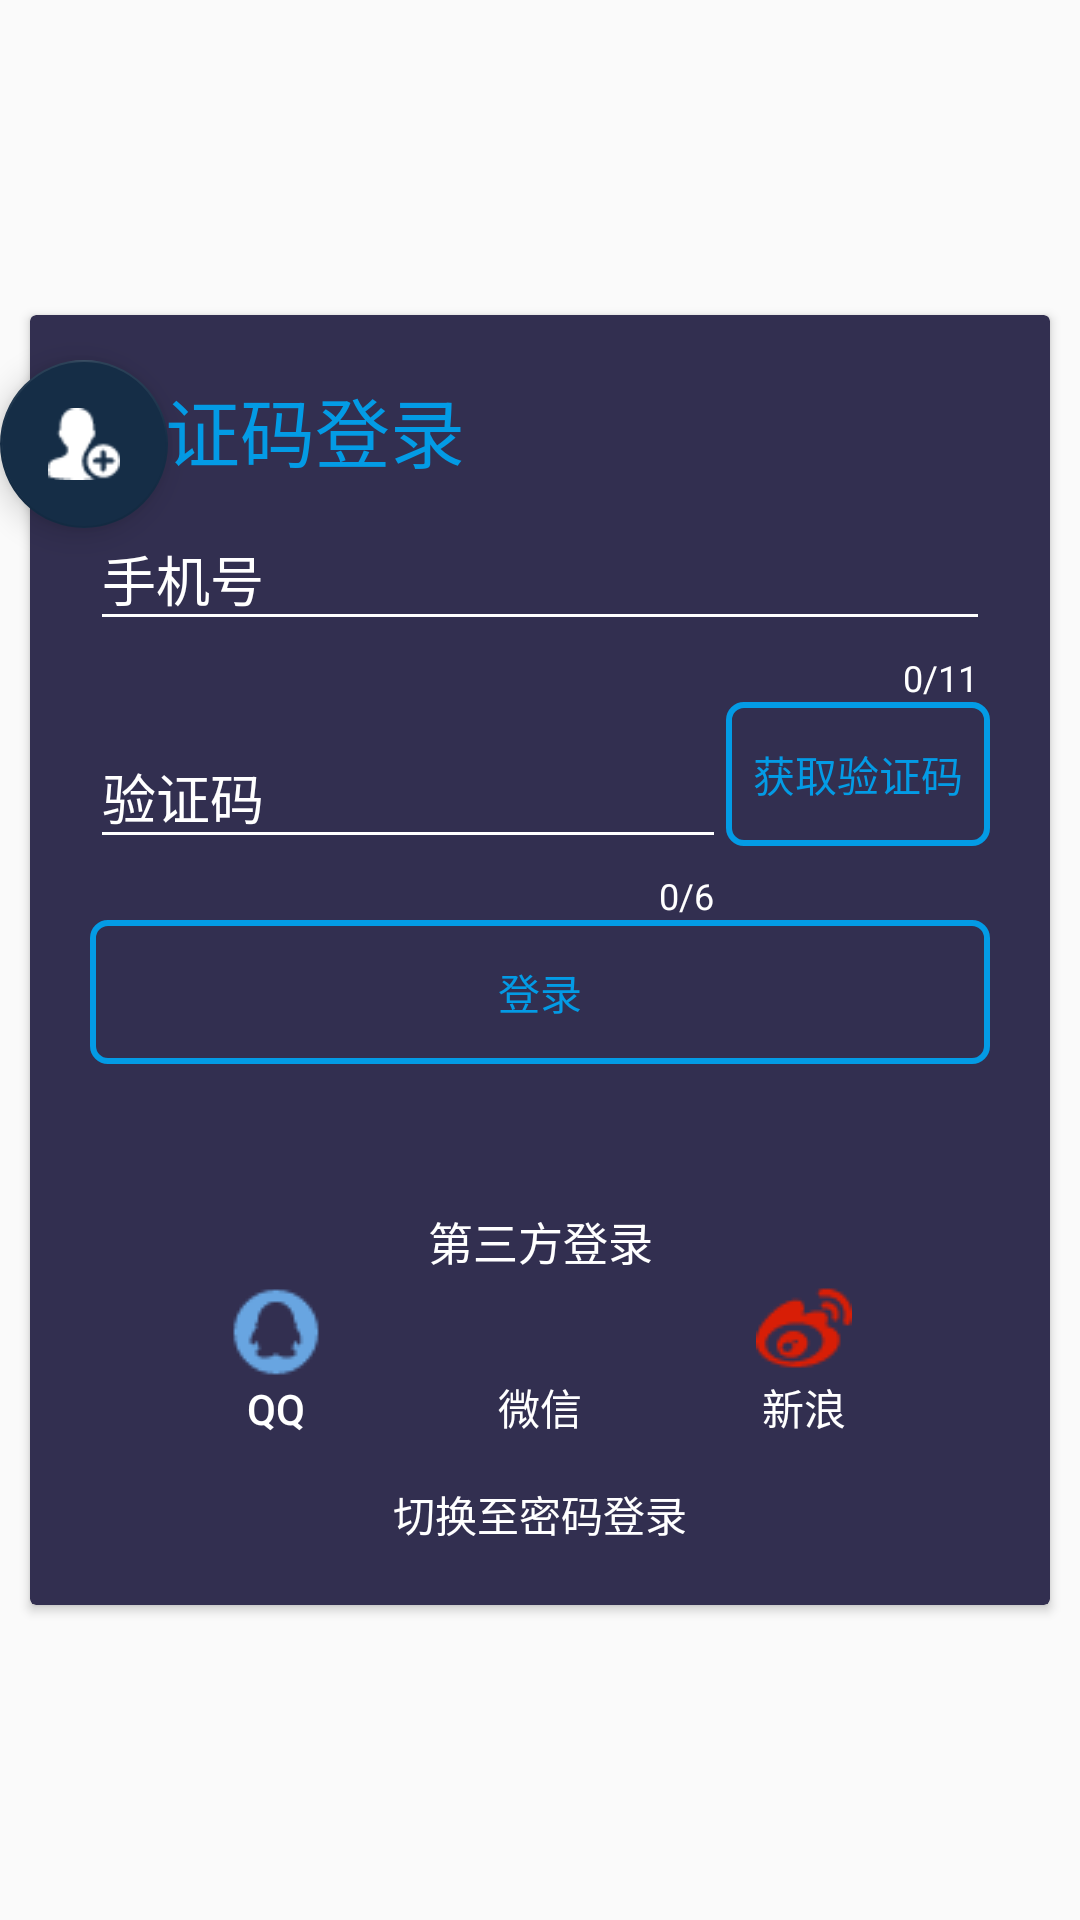

Screen size 1080px x 1920px. Icon name, then its center in pixels as point (x, y):
register: point (84, 444)
